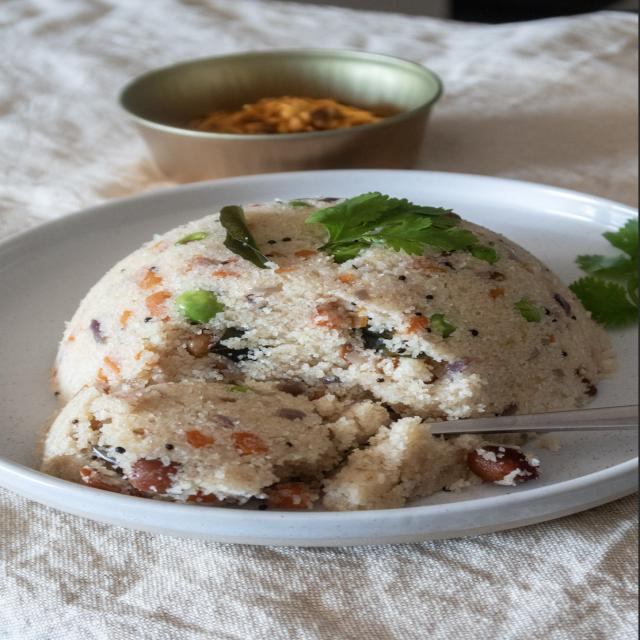UPMA: (45, 194, 627, 510)
